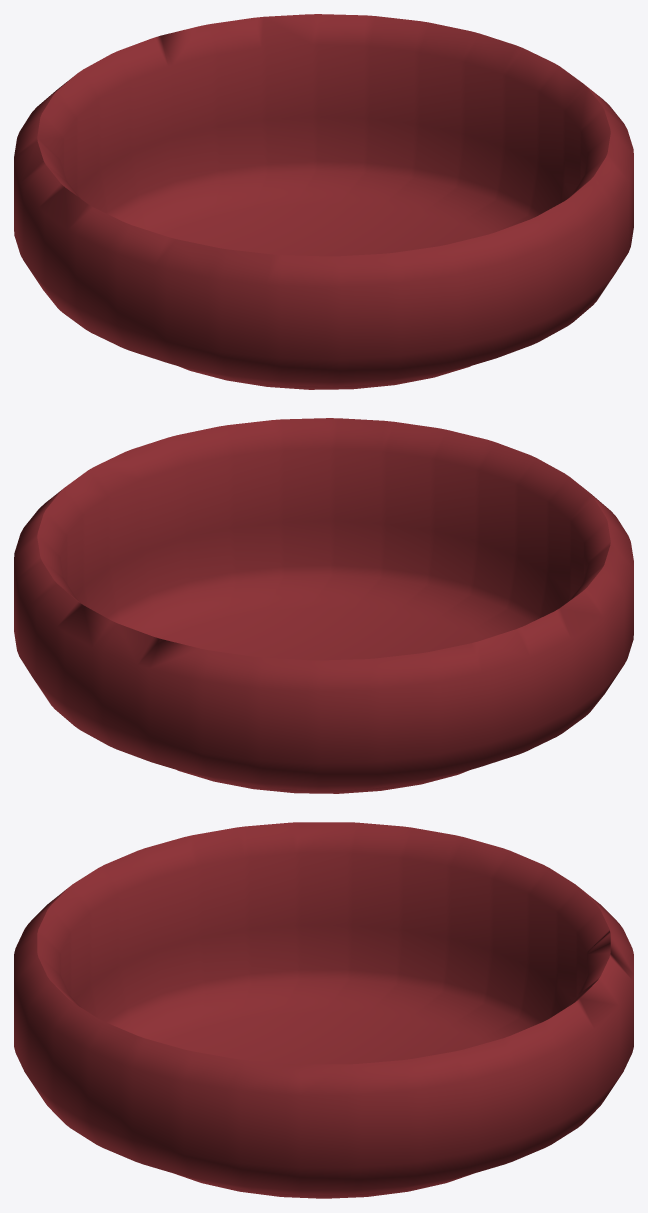
Rendered from Bowl2.fbx.
3 renders of one model, top to bottom at view 1: azimuth 30°, elevation 25°; view 2: azimuth 150°, elevation 25°; view 3: azimuth 270°, elevation 25°, orthographic.
Visible parts, largest first — view 1: Bowl2; view 2: Bowl2; view 3: Bowl2.
Boxes of the visible parts, x1,y1,x2,y2 form: Bowl2: (14,14,633,389); Bowl2: (14,418,633,793); Bowl2: (14,822,633,1198).
Size of the model in its own units: 29.48 by 8.51 by 29.48.
